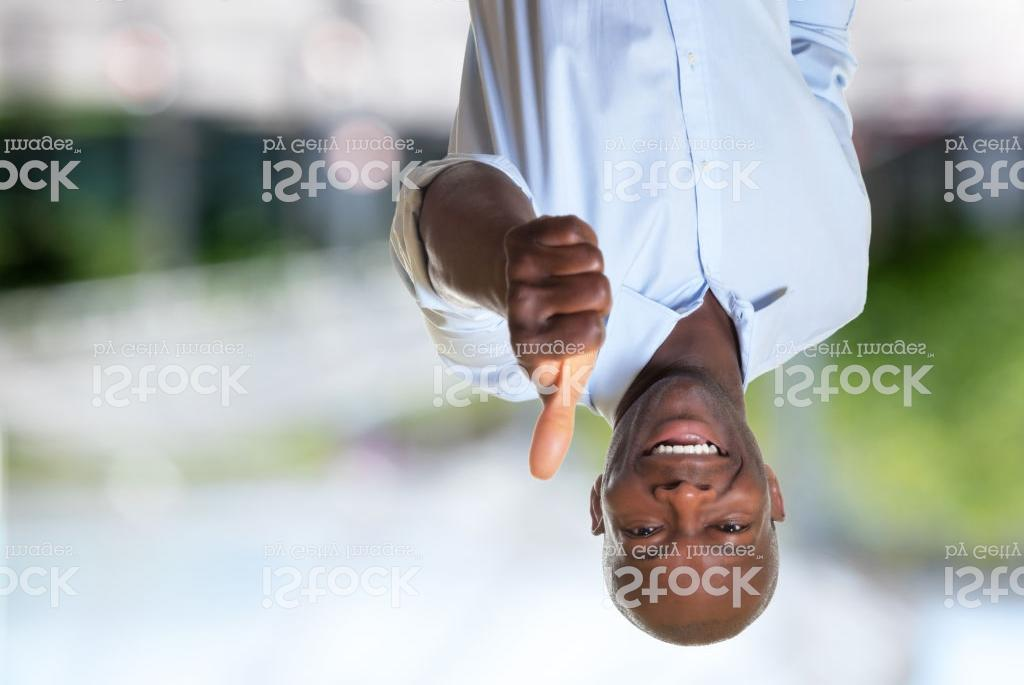thumbsdown: (503, 213, 616, 482)
